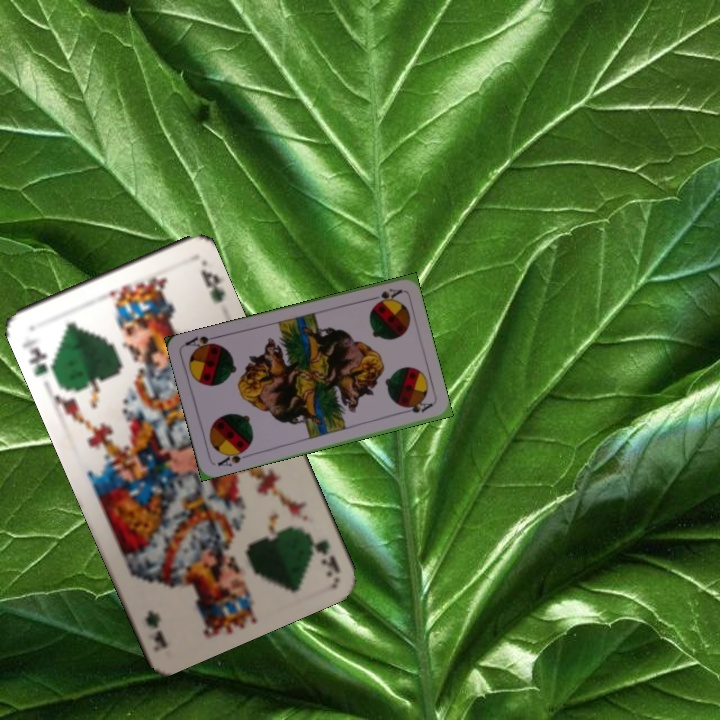GK: (17, 333, 59, 381), (301, 527, 342, 575)
SA: (213, 444, 252, 469), (364, 284, 404, 306)
